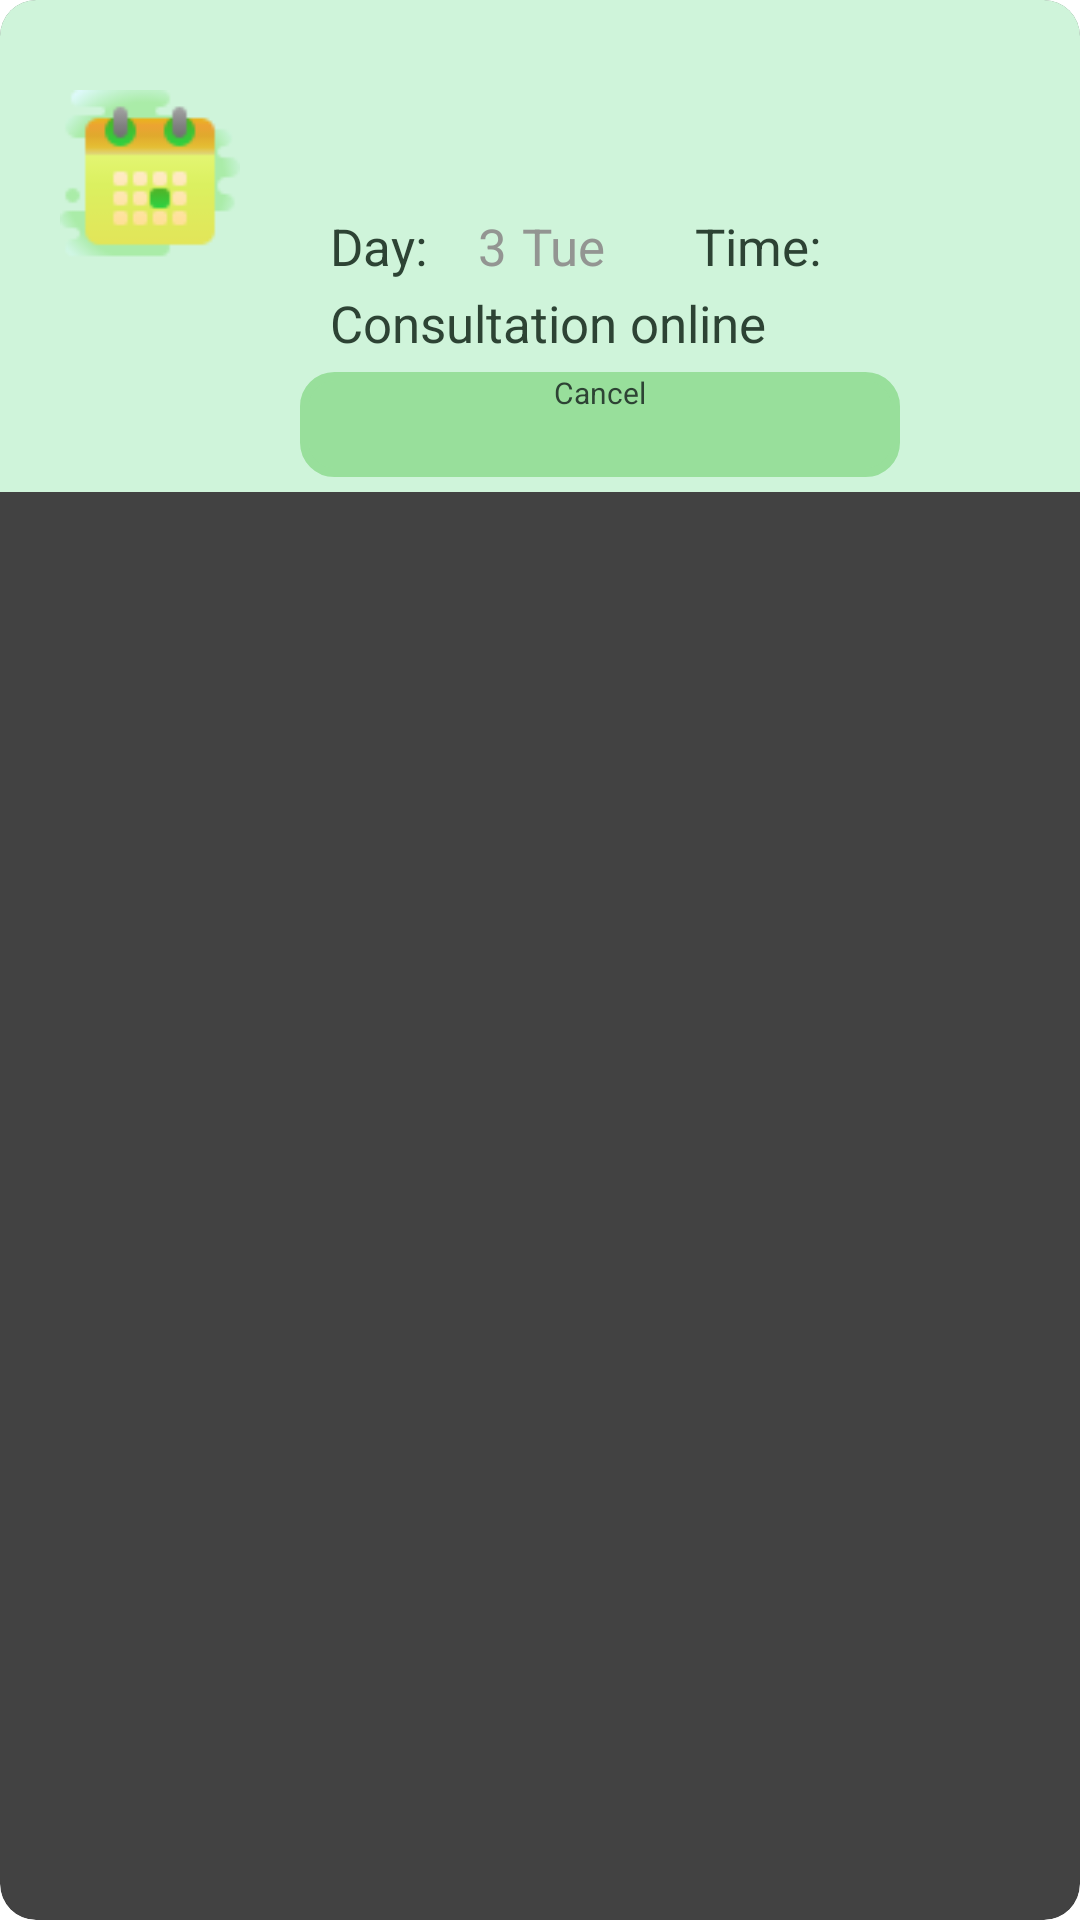

Where icons sit on this 1080x1920 app screen, as (x1, y1, x2, y2):
iconappointment: (63, 90, 233, 256)
